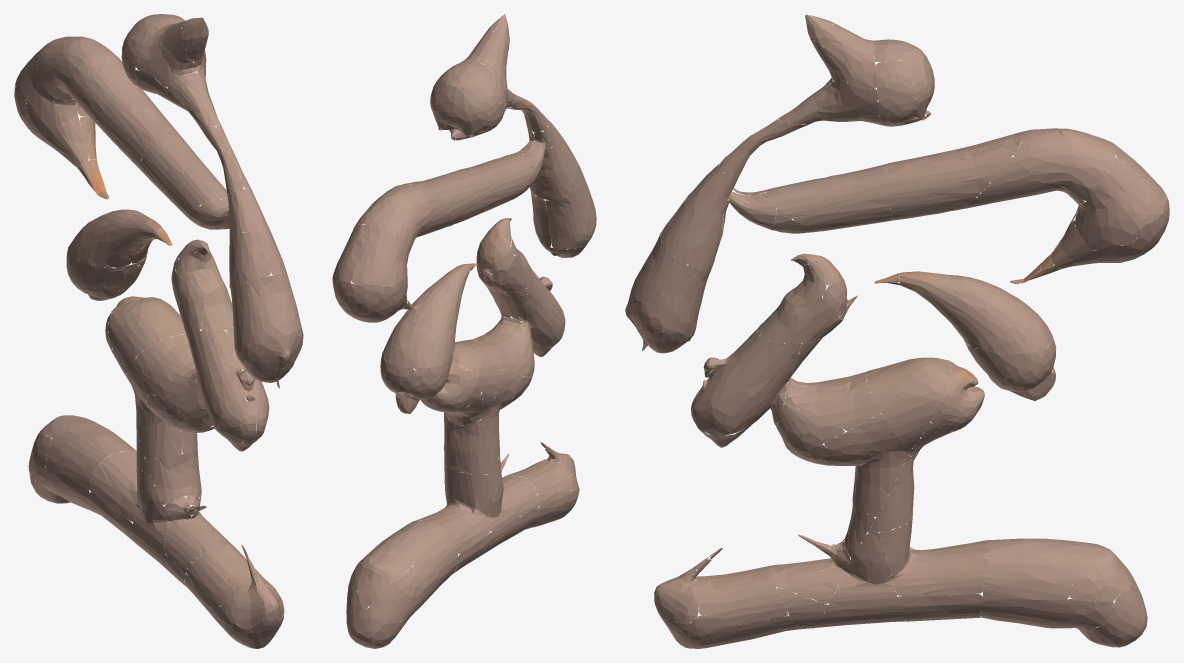
The picture shows the model from 3 angles, left to right: view 1: azimuth 30°, elevation 25°; view 2: azimuth 150°, elevation 25°; view 3: azimuth 270°, elevation 25°; orthographic projection. The views are drawn at different scales.
Parts seen in each view (by area): view 1: tripo_node_754d1231-5f5e-428e-91e4-4c327ff5f2ea; view 2: tripo_node_754d1231-5f5e-428e-91e4-4c327ff5f2ea; view 3: tripo_node_754d1231-5f5e-428e-91e4-4c327ff5f2ea.
Boxes of the visible parts, box(x1,y1,x2,y2) form: tripo_node_754d1231-5f5e-428e-91e4-4c327ff5f2ea: box(14, 14, 303, 648); tripo_node_754d1231-5f5e-428e-91e4-4c327ff5f2ea: box(332, 14, 596, 648); tripo_node_754d1231-5f5e-428e-91e4-4c327ff5f2ea: box(625, 14, 1169, 648).
Size of the model in its own units: 0.1257 by 0.9987 by 0.7783.
1 material, 1 textured.
